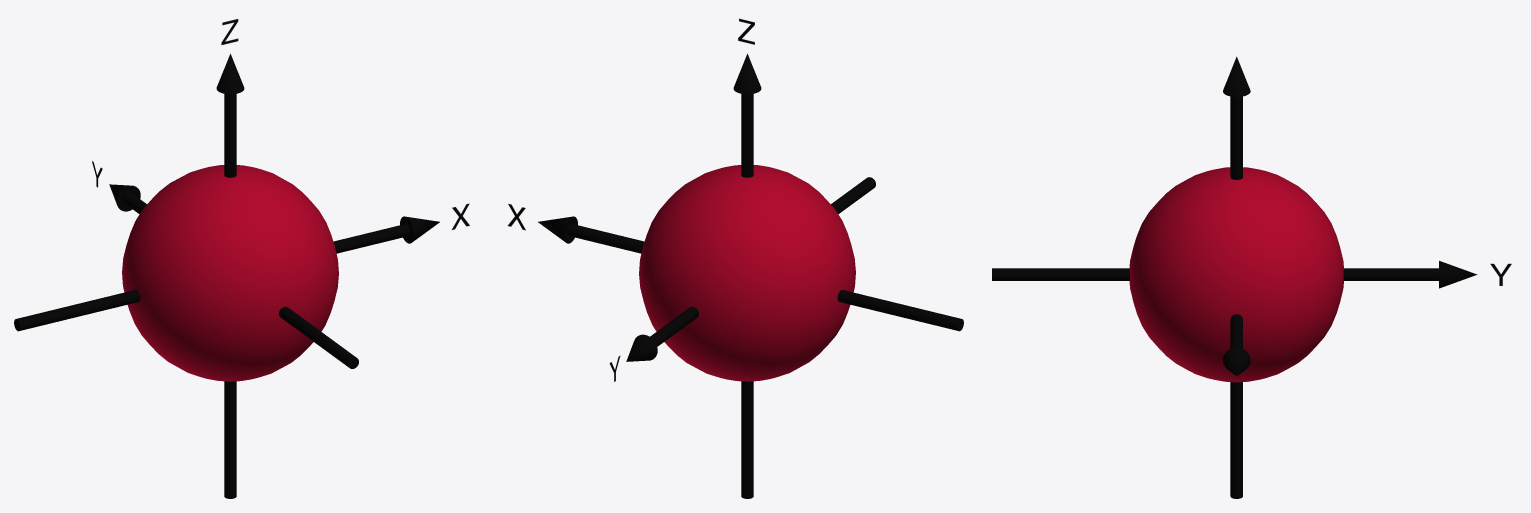
3 renders of one model, left to right at view 1: azimuth 30°, elevation 25°; view 2: azimuth 150°, elevation 25°; view 3: azimuth 270°, elevation 25°, orthographic.
Parts seen in each view (by area): view 1: S_Orbital; view 2: S_Orbital; view 3: S_Orbital.
Part boxes in pixels (left/top/right/bottom): S_Orbital: left=14, top=53, right=439, bottom=498; S_Orbital: left=538, top=53, right=963, bottom=498; S_Orbital: left=992, top=56, right=1477, bottom=498.
Size of the model in its own units: 93.5 by 93.5 by 93.5.
2 materials, 2 textured.
